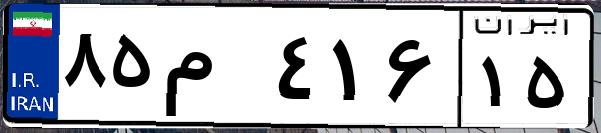1: (330, 28, 385, 110), (475, 38, 525, 113)
4: (270, 28, 330, 110)
5: (525, 38, 570, 115), (110, 28, 158, 98)
6: (385, 28, 445, 110)
8: (57, 26, 110, 100)
م: (158, 20, 270, 120)
